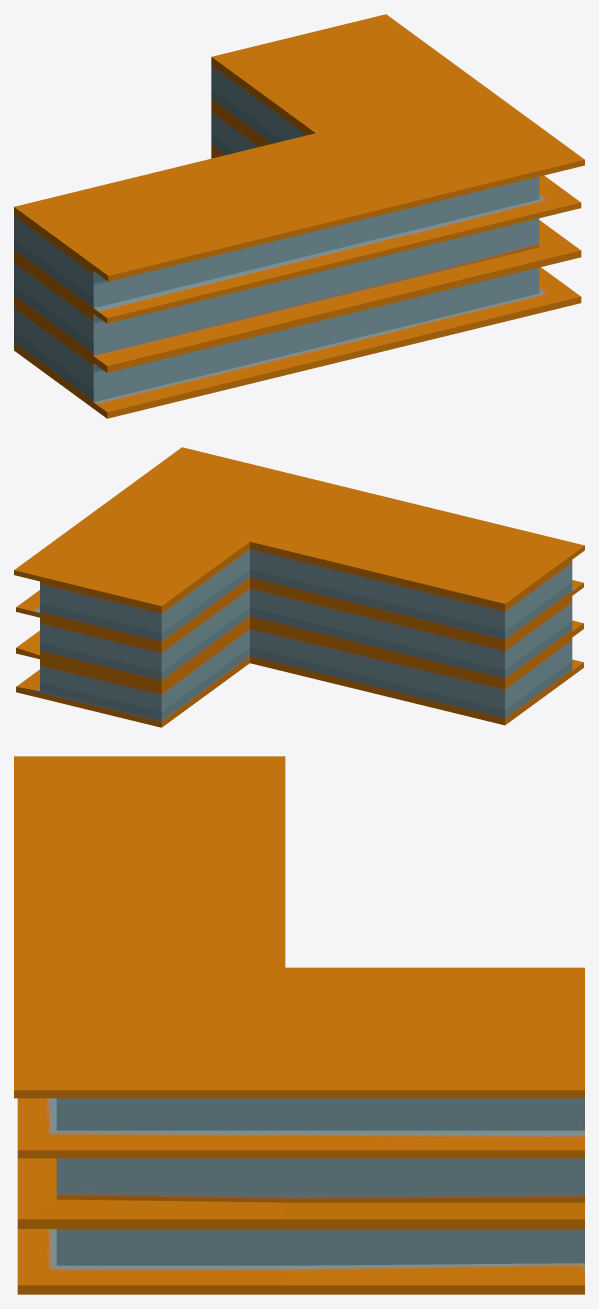
Rendered from Desk.fbx.
3 views of the same model, one above another, from view 1: azimuth 30°, elevation 25°; view 2: azimuth 150°, elevation 25°; view 3: azimuth 270°, elevation 25° (orthographic). The views are drawn at different scales.
Visible parts, largest first — view 1: Desk; view 2: Desk; view 3: Desk.
Boxes of the visible parts, <box> form: Desk: <box>14,14,584,418</box>; Desk: <box>14,447,584,727</box>; Desk: <box>14,756,584,1294</box>.
Size of the model in its own units: 203 by 58.47 by 147.
